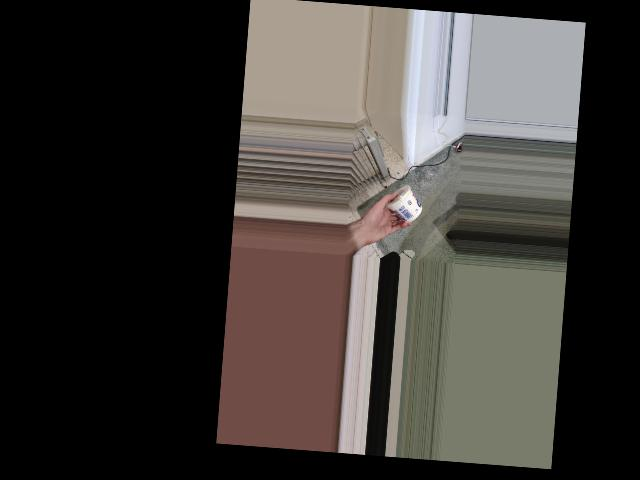cotage: (383, 182, 424, 225)
